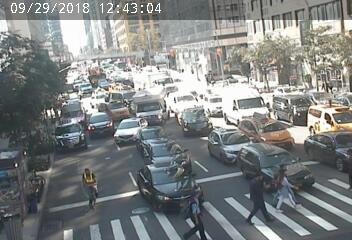car: (143, 165, 196, 205), (225, 90, 272, 123), (309, 99, 352, 132), (309, 132, 352, 162), (245, 116, 287, 145), (248, 142, 285, 174), (179, 110, 223, 136), (282, 88, 314, 119), (138, 87, 165, 120), (166, 88, 202, 112), (54, 126, 82, 150), (60, 97, 87, 121), (213, 130, 238, 153), (141, 140, 172, 158), (151, 72, 180, 91), (198, 90, 223, 109), (106, 80, 132, 98), (103, 102, 130, 119), (89, 115, 109, 134), (118, 120, 134, 136), (138, 126, 157, 138), (80, 84, 94, 89), (92, 89, 96, 92), (286, 173, 289, 174)
